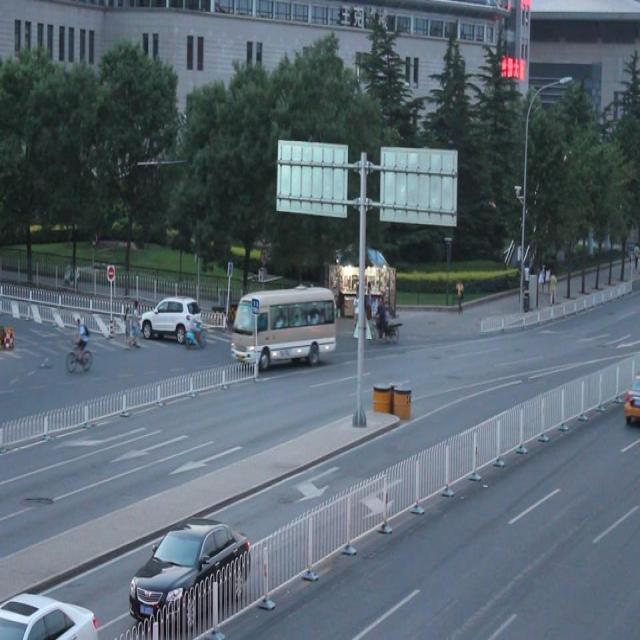car: (129, 517, 251, 631), (1, 591, 98, 640), (140, 294, 202, 344)
truck: (231, 293, 335, 365)
